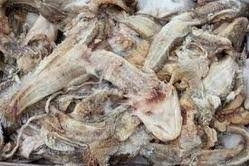kitchen_waste: (9, 13, 99, 124), (86, 47, 189, 143), (142, 10, 216, 79)
